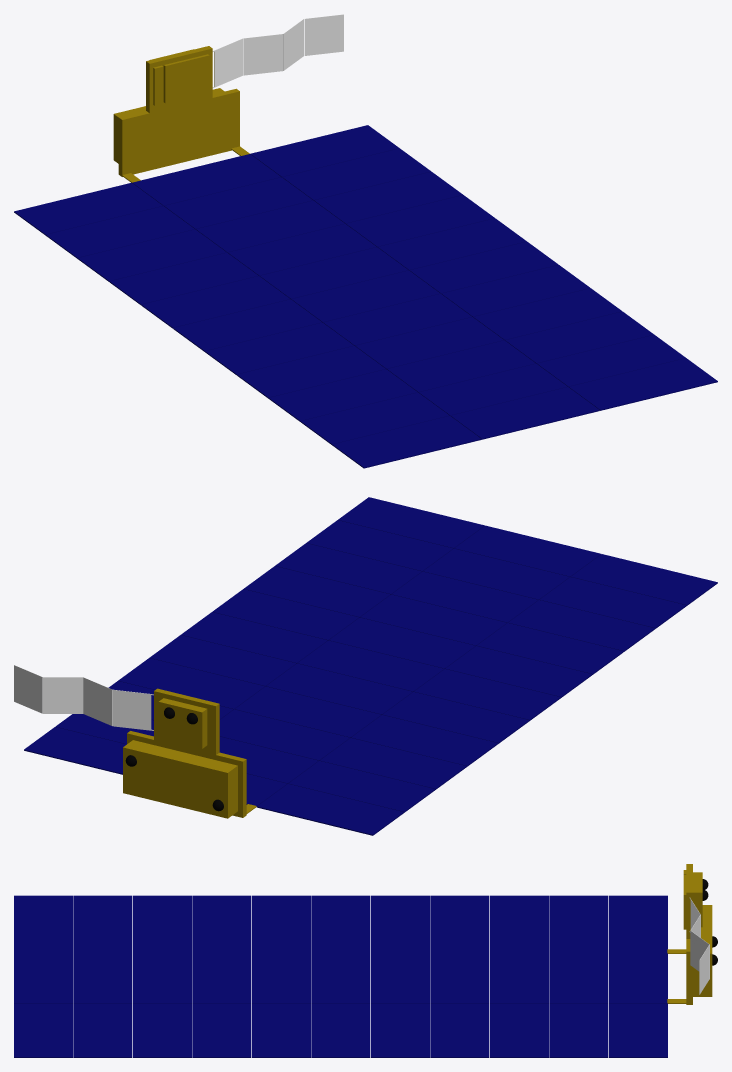
File: final_SpaceIDC.gltf
3 renders of one model, top to bottom at view 1: azimuth 30°, elevation 25°; view 2: azimuth 150°, elevation 25°; view 3: azimuth 270°, elevation 25°, orthographic. The views are drawn at different scales.
Visible parts, largest first — view 1: spacecraft_edit:Mesh group; view 2: spacecraft_edit:Mesh group; view 3: spacecraft_edit:Mesh group.
Part boxes in pixels (x1=…): spacecraft_edit:Mesh group: x1=14, y1=14, x2=717, y2=468; spacecraft_edit:Mesh group: x1=14, y1=497, x2=717, y2=835; spacecraft_edit:Mesh group: x1=14, y1=864, x2=717, y2=1057.
Size of the model in its own units: 17.41 by 5.01 by 32.08.
